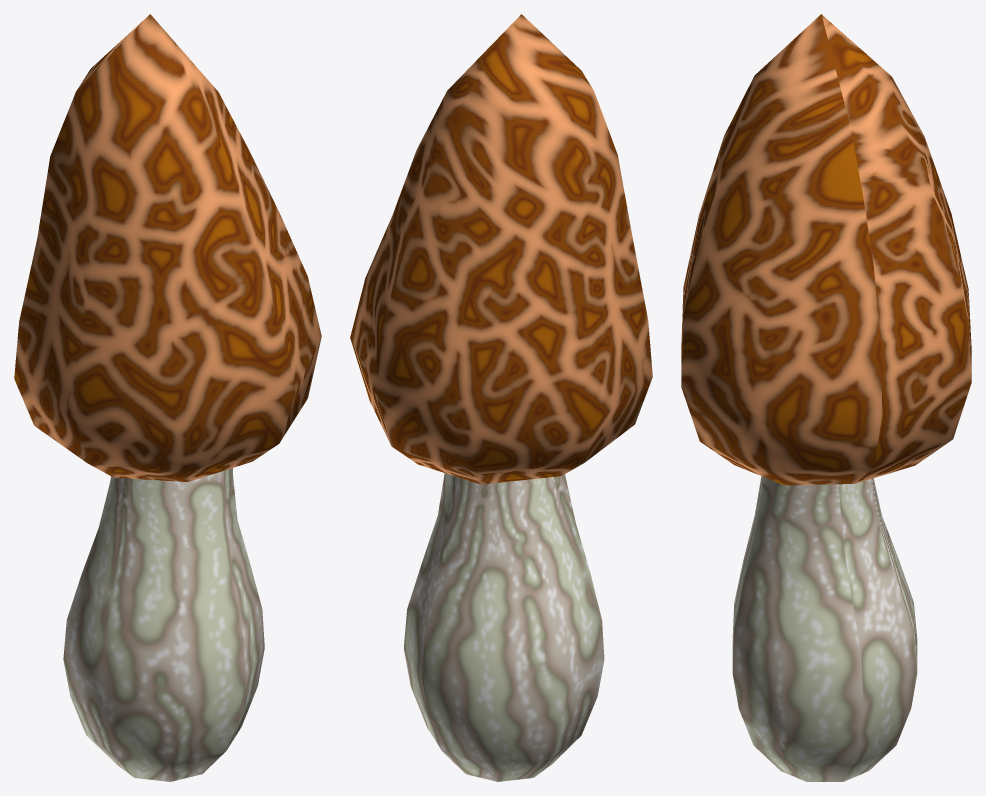
File: morel.DAE
The picture shows the model from 3 angles, left to right: view 1: azimuth 30°, elevation 25°; view 2: azimuth 150°, elevation 25°; view 3: azimuth 270°, elevation 25°; orthographic projection.
Parts seen in each view (by area): view 1: morel; view 2: morel; view 3: morel.
Boxes of the visible parts, left/top/right/bottom form: morel: left=14, top=14, right=321, bottom=781; morel: left=350, top=14, right=652, bottom=781; morel: left=681, top=14, right=971, bottom=781.
Size of the model in its own units: 0.3879 by 0.3964 by 1.13.
1 material, 1 textured.
